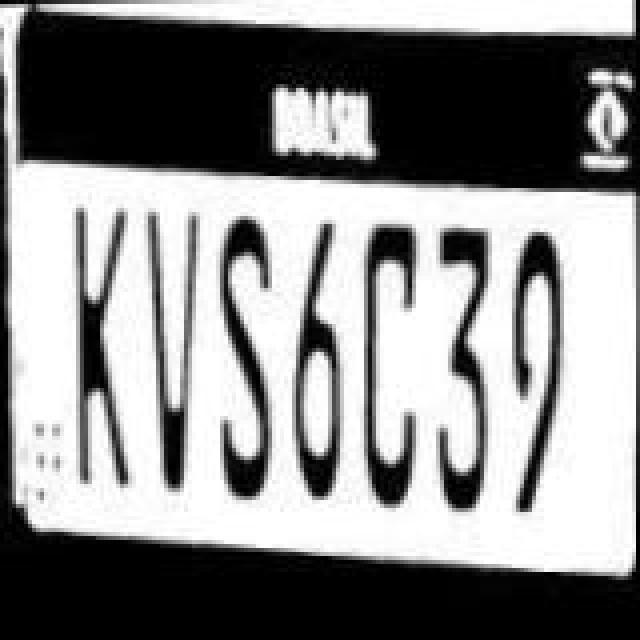3: (420, 208, 488, 512)
6: (284, 208, 344, 504)
9: (496, 200, 564, 516)
C: (350, 208, 430, 508)
K: (64, 210, 140, 506)
S: (208, 218, 284, 518)
V: (140, 212, 208, 500)
